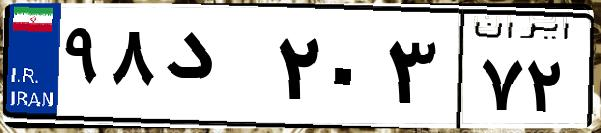0: (330, 28, 385, 110)
2: (270, 28, 330, 110), (525, 38, 570, 115)
3: (385, 28, 445, 110)
7: (475, 38, 525, 113)
8: (110, 28, 158, 98)
9: (57, 26, 110, 100)
د: (158, 20, 270, 120)
